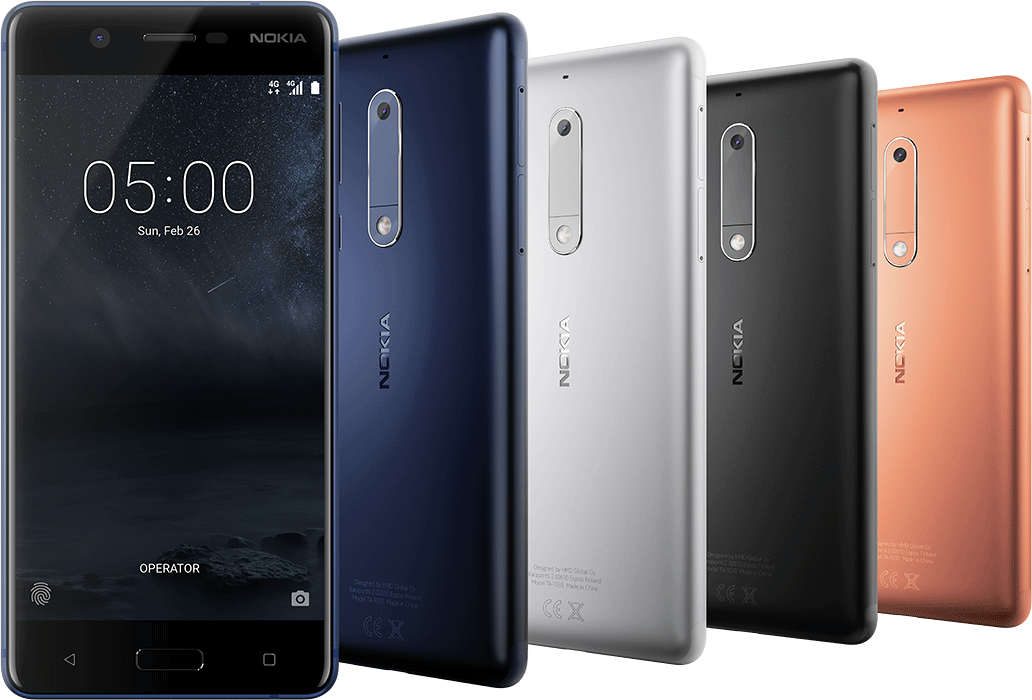phone: (13, 1, 326, 679)
